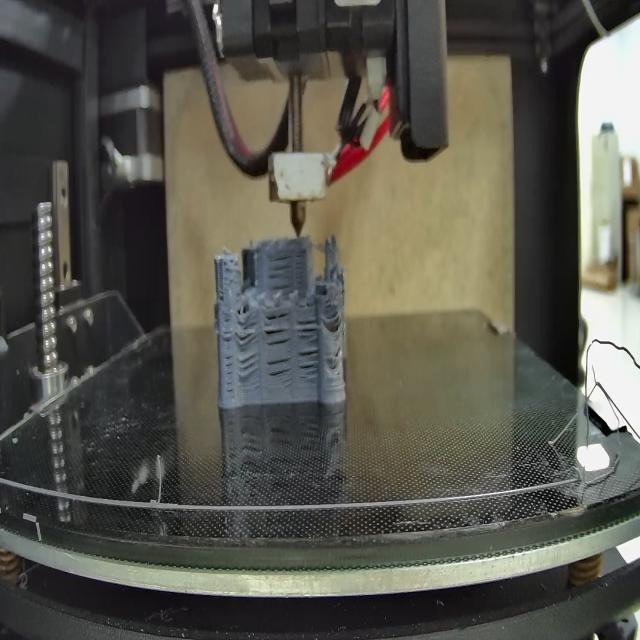cracks: (265, 250, 297, 295), (265, 310, 294, 348), (294, 306, 319, 349), (223, 317, 235, 398), (297, 348, 322, 385), (268, 353, 294, 385), (238, 352, 262, 382), (236, 316, 259, 347), (329, 306, 342, 334), (332, 345, 345, 364), (218, 280, 226, 305)
